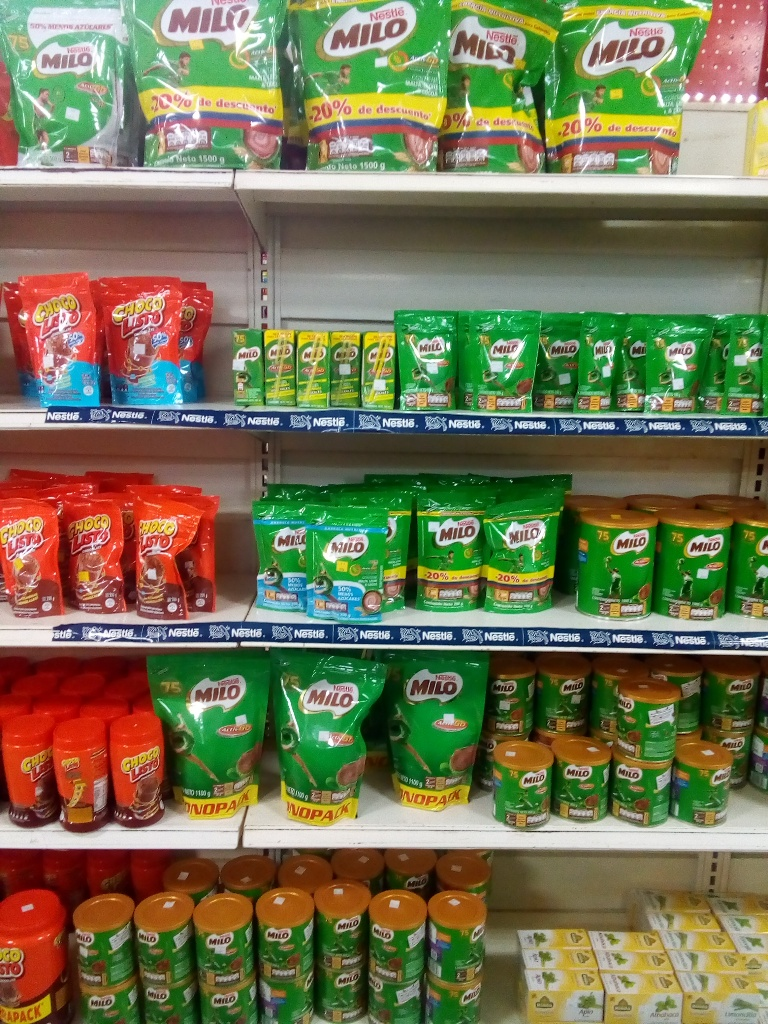COL0170103DYP20000: (3, 494, 68, 621)
COL0170103TRR00100: (0, 882, 71, 1022)
COL0170103TRR30000: (2, 715, 52, 828)
COL0170104DYP20000: (12, 269, 105, 405)
COL0170203DYP10000: (393, 309, 460, 409)
COL0170203DYP25000: (410, 494, 483, 611)
COL0170203LAT40000: (497, 650, 538, 733)
COL0170205DYP20000: (246, 500, 305, 613)
COL0170205DYP50000: (0, 2, 131, 168)
